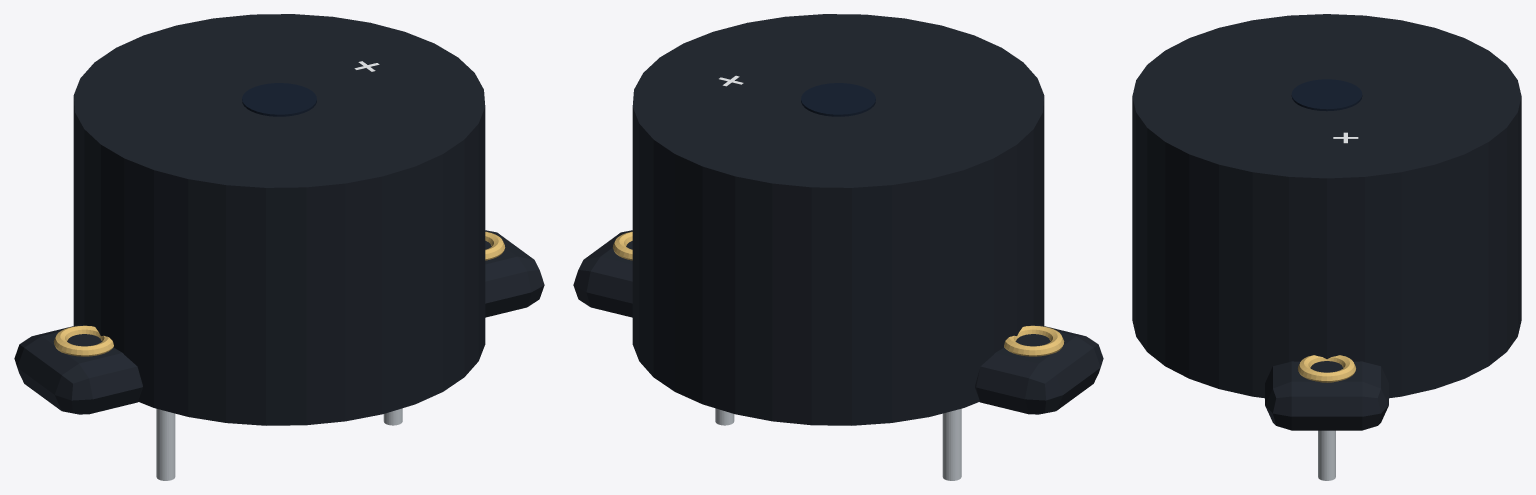
File: buzzer.glb
3 views of the same model, side by side, from view 1: azimuth 30°, elevation 25°; view 2: azimuth 150°, elevation 25°; view 3: azimuth 270°, elevation 25° (orthographic). The views are drawn at different scales.
Parts seen in each view (by area): view 1: Static body • black, Static body • screen, Static body • silver, Static body • gold; view 2: Static body • black, Static body • screen, Static body • silver, Static body • gold; view 3: Static body • black, Static body • screen, Static body • gold, Static body • silver.
Boxes of the visible parts, x1,y1,x2,y2 form: Static body • black: [14, 14, 544, 425]; Static body • screen: [242, 83, 316, 116]; Static body • silver: [156, 408, 402, 480]; Static body • gold: [53, 231, 505, 356]; Static body • black: [573, 14, 1103, 425]; Static body • screen: [801, 83, 875, 116]; Static body • silver: [715, 408, 961, 480]; Static body • gold: [612, 231, 1064, 356]; Static body • black: [1132, 14, 1521, 430]; Static body • screen: [1291, 79, 1362, 111]; Static body • gold: [1298, 355, 1355, 382]; Static body • silver: [1318, 430, 1335, 480].
Size of the model in its own units: 30 by 20.7 by 22.
